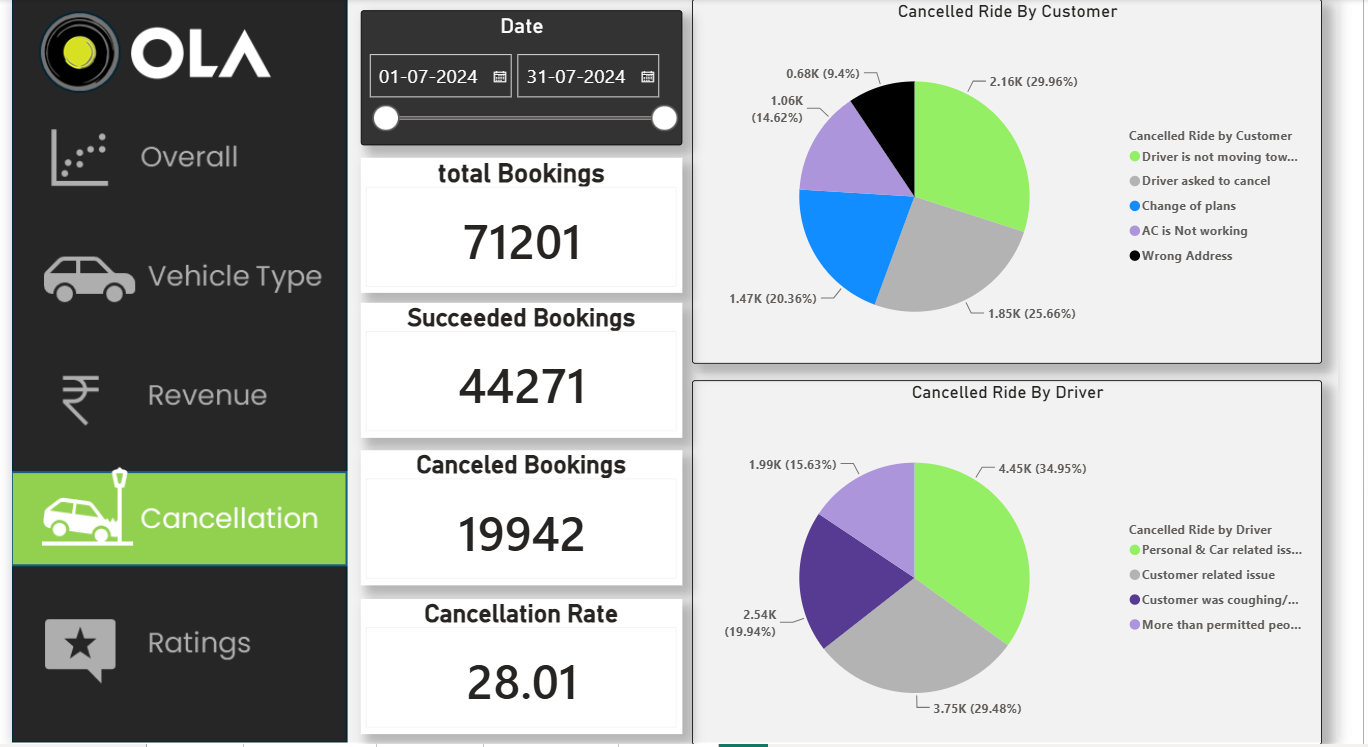

Layout of this report page (visuals, bound fields, positions):
{"tool":"powerbi","page":{"name":"Cancellation","canvas":[1280,720],"ordinal":3},"visuals":[{"type":"actionButton","box":[0,224,322,91],"z":0},{"type":"actionButton","box":[0,336,322,91],"z":1000},{"type":"actionButton","box":[0,576,322,91],"z":2000},{"type":"actionButton","box":[0,112,322,91],"z":3000},{"type":"pieChart","title":"Cancelled Ride By Customer","fields":{"Y":["CountNonNull(Bookings.Canceled_Rides_by_Customer)"],"Category":["Bookings.Canceled_Rides_by_Customer"]},"box":[656,0,608,352],"z":3001},{"type":"pieChart","title":"Cancelled Ride By Driver","fields":{"Category":["Bookings.Canceled_Rides_by_Driver"],"Y":["CountNonNull(Bookings.Canceled_Rides_by_Driver)"]},"box":[656,368,608,352],"z":3002},{"type":"slicer","title":"Date","fields":{"Values":["Bookings.Date"]},"box":[336,11,310,130],"z":3003},{"type":"cardVisual","title":"total Bookings","fields":{"Data":["Bookings.Totalbookings"]},"box":[336,153,310,130],"z":3004},{"type":"cardVisual","title":"Succeeded Bookings","fields":{"Data":["CountNonNull(Bookings.Booking_ID)"]},"box":[336,293,310,130],"z":3005},{"type":"cardVisual","title":"Canceled Bookings","fields":{"Data":["Bookings.Canceledbookings"]},"box":[336,436,310,130],"z":3006},{"type":"cardVisual","title":"Cancellation Rate","fields":{"Data":["Bookings.CanceledBookingPerc"]},"box":[336,579,310,130],"z":3007}]}

Visuals, with their boxes on the page's 1280x720 design canvas (x1, y1, x2, y2). These are canvas units, not pixel positions in the 1368x747 screenshot, which may show the page scaled, cropped or inside an application window:
actionButton: [x1=0, y1=224, x2=322, y2=315]
actionButton: [x1=0, y1=336, x2=322, y2=427]
actionButton: [x1=0, y1=576, x2=322, y2=667]
actionButton: [x1=0, y1=112, x2=322, y2=203]
"Cancelled Ride By Customer" pieChart: [x1=656, y1=0, x2=1264, y2=352]
"Cancelled Ride By Driver" pieChart: [x1=656, y1=368, x2=1264, y2=720]
"Date" slicer: [x1=336, y1=11, x2=646, y2=141]
"total Bookings" cardVisual: [x1=336, y1=153, x2=646, y2=283]
"Succeeded Bookings" cardVisual: [x1=336, y1=293, x2=646, y2=423]
"Canceled Bookings" cardVisual: [x1=336, y1=436, x2=646, y2=566]
"Cancellation Rate" cardVisual: [x1=336, y1=579, x2=646, y2=709]
